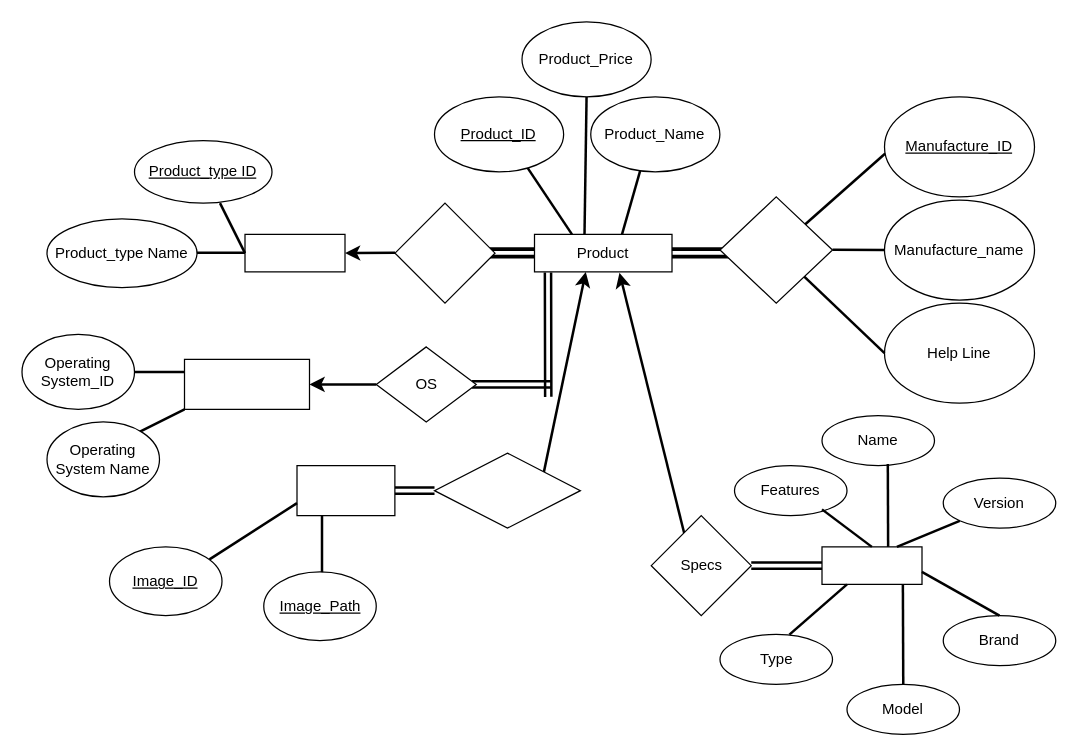
Some shapes in this 1078 by 756 pixel diagram are drawn without their labels. The centre of each missing label's shape, as x and y in pixels:
Images: point 345,490
IMG: point 506,490
Manufacture info: point 775,249
Operating System: point 246,383
P Type: point 444,252
Product Type: point 294,252
Specification: point 871,565
